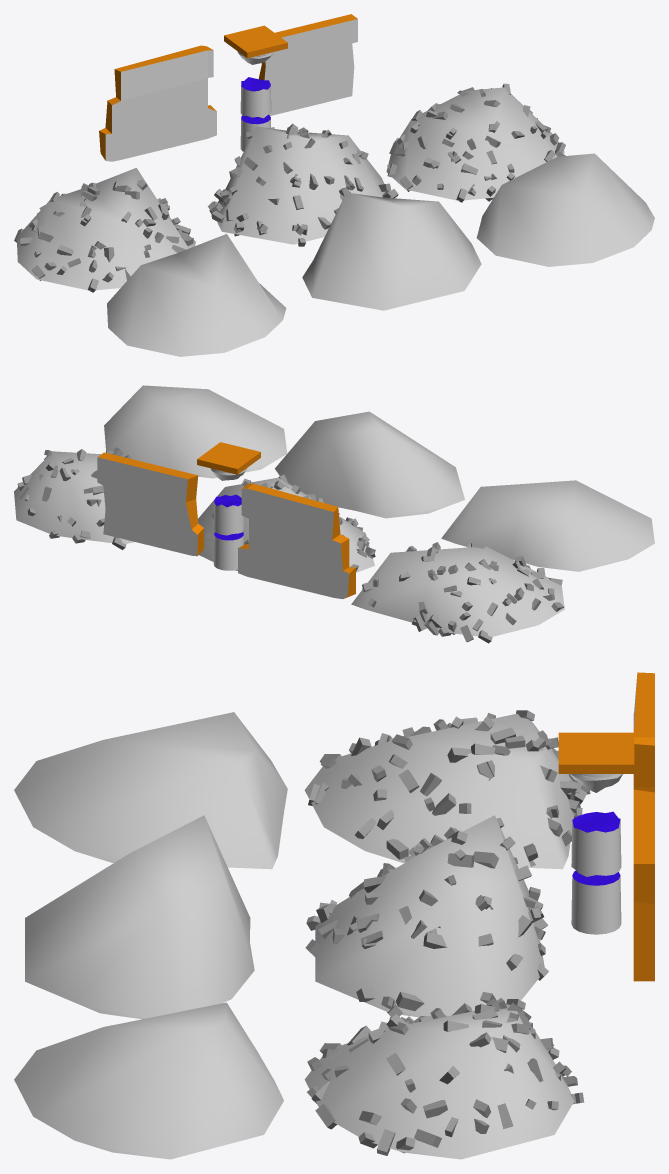
Rendered from rubble.fbx.
3 views of the same model, one above another, from view 1: azimuth 30°, elevation 25°; view 2: azimuth 150°, elevation 25°; view 3: azimuth 270°, elevation 25° (orthographic). The views are drawn at different scales.
Parts seen in each view (by area): view 1: Rubble.004, Rubble.003, Rubble.005, Rubble2, Rubble3, Rubble1, wallRubble2, wallRubble1, Column-PartsTop, Column-PartsMid, Column-PartsBot; view 2: Rubble3, Rubble.003, Rubble.004, Rubble.005, wallRubble2, wallRubble1, Rubble1, Rubble2, Column-PartsTop, Column-PartsMid, Column-PartsBot; view 3: Rubble2, Rubble.004, Rubble1, Rubble3, Rubble.005, Rubble.003, wallRubble1, Column-PartsTop, Column-PartsMid, Column-PartsBot, wallRubble2.
Boxes of the visible parts, left/top/right/bottom form: Rubble.004: left=302, top=192, right=481, bottom=310; Rubble.003: left=107, top=234, right=286, bottom=356; Rubble.005: left=476, top=153, right=654, bottom=266; Rubble2: left=207, top=123, right=398, bottom=246; Rubble3: left=14, top=168, right=195, bottom=292; Rubble1: left=386, top=83, right=565, bottom=202; wallRubble2: left=99, top=45, right=216, bottom=161; wallRubble1: left=258, top=14, right=357, bottom=115; Column-PartsTop: left=224, top=25, right=287, bottom=64; Column-PartsMid: left=240, top=77, right=271, bottom=118; Column-PartsBot: left=240, top=114, right=270, bottom=151; Rubble3: left=351, top=542, right=564, bottom=643; Rubble.003: left=441, top=480, right=654, bottom=571; Rubble.004: left=275, top=411, right=464, bottom=518; Rubble.005: left=104, top=385, right=287, bottom=478; wallRubble2: left=238, top=483, right=355, bottom=599; wallRubble1: left=97, top=452, right=203, bottom=556; Rubble1: left=14, top=447, right=134, bottom=549; Rubble2: left=198, top=474, right=375, bottom=572; Column-PartsTop: left=197, top=442, right=260, bottom=480; Column-PartsMid: left=213, top=494, right=244, bottom=535; Column-PartsBot: left=213, top=532, right=243, bottom=570; Rubble2: left=305, top=815, right=548, bottom=1017; Rubble.004: left=25, top=815, right=254, bottom=1019; Rubble1: left=304, top=998, right=584, bottom=1159; Rubble3: left=304, top=710, right=590, bottom=869; Rubble.005: left=14, top=1002, right=283, bottom=1159; Rubble.003: left=14, top=712, right=287, bottom=869; wallRubble1: left=633, top=789, right=654, bottom=981; Column-PartsTop: left=558, top=732, right=634, bottom=792; Column-PartsMid: left=571, top=811, right=621, bottom=876; Column-PartsBot: left=571, top=870, right=621, bottom=934; wallRubble2: left=633, top=672, right=654, bottom=792.
Bounding box in the file's own units: 3971 × 970 × 2558.
